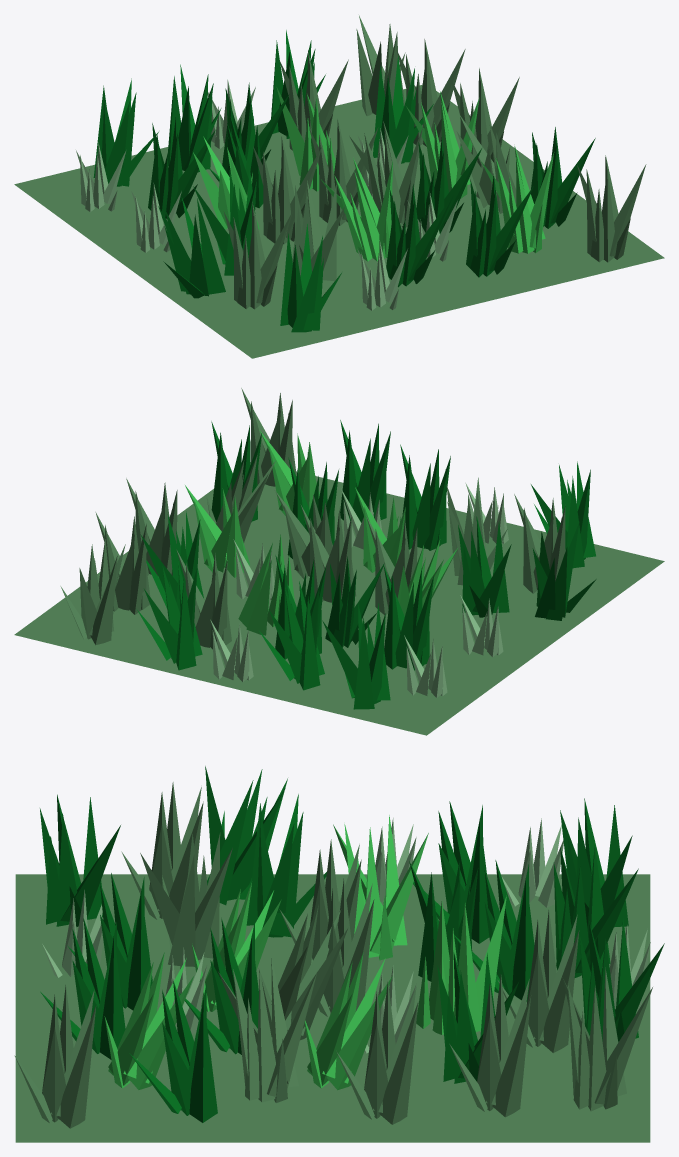
The model's file is LowPolyGrass.fbx.
3 renders of one model, top to bottom at view 1: azimuth 30°, elevation 25°; view 2: azimuth 150°, elevation 25°; view 3: azimuth 270°, elevation 25°, orthographic. The views are drawn at different scales.
Parts seen in each view (by area): view 1: pPlane1, pCone20 (×8), pCone16 (×7), pCone19 (×7), pCone2 (×6), pCone1 (×6), pCone15 (×5), pCone18 (×5), pCone8 (×4), pCone6 (×4), pCone9 (×3), pCone3 (×3) (+5 smaller); view 2: pPlane1, pCone19 (×10), pCone5 (×6), pCone4 (×6), pCone6 (×6), pCone16 (×6), pCone18 (×5), pCone20 (×4), pCone12 (×5), pCone13 (×2), pCone15, pCone2 (+1 smaller); view 3: pPlane1, pCone19 (×13), pCone5 (×10), pCone16 (×11), pCone2 (×9), pCone12 (×6), pCone9 (×6), pCone6 (×9), pCone4 (×8), pCone20 (×8), pCone15 (×6), pCone8 (×5) (+10 smaller).
Part boxes in pixels (x1,y1,x2,y2): pPlane1: (14, 84, 664, 358); pCone20 (×8): (105, 76, 480, 332); pCone16 (×7): (173, 129, 595, 296); pCone19 (×7): (168, 40, 385, 325); pCone2 (×6): (256, 49, 646, 303); pCone1 (×6): (248, 53, 614, 309); pCone15 (×5): (165, 134, 557, 294); pCone18 (×5): (102, 76, 395, 327); pCone8 (×4): (354, 101, 534, 261); pCone6 (×4): (233, 134, 596, 301); pCone9 (×3): (376, 127, 554, 258); pCone3 (×3): (237, 170, 603, 308); pPlane1: (14, 462, 664, 735); pCone19 (×10): (176, 430, 584, 709); pCone5 (×6): (90, 401, 537, 645); pCone4 (×6): (115, 410, 339, 647); pCone6 (×6): (129, 400, 565, 649); pCone16 (×6): (140, 534, 511, 695); pCone18 (×5): (352, 438, 590, 703); pCone20 (×4): (369, 431, 555, 670); pCone12 (×5): (194, 446, 375, 579); pCone13 (×2): (225, 442, 318, 577); pCone15: (469, 531, 484, 615); pCone2: (79, 568, 97, 639); pPlane1: (15, 874, 650, 1142); pCone19 (×13): (83, 780, 638, 1122); pCone5 (×10): (57, 801, 626, 1128); pCone16 (×11): (60, 766, 664, 1115); pCone2 (×9): (42, 824, 652, 1122); pCone12 (×6): (128, 815, 407, 1090); pCone9 (×6): (108, 833, 428, 1096); pCone6 (×9): (60, 782, 580, 1095); pCone4 (×8): (50, 787, 577, 1116); pCone20 (×8): (83, 801, 571, 1065); pCone15 (×6): (56, 769, 615, 1083); pCone8 (×5): (108, 827, 381, 1102).
Bounding box in the file's own units: 13.66 × 3.09 × 13.67.
